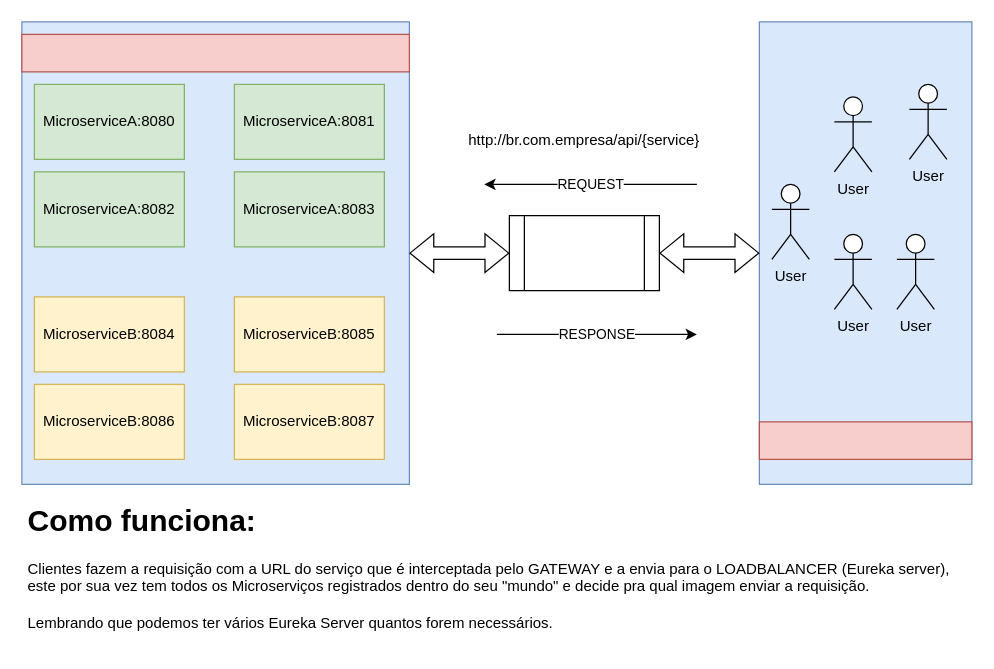
Image size: 994x669. Some labels were removed from this diagram. The centre of each missing label's shape, as x and y in pixels:
"Discovery Server Eureka : porta 8761 : Load Balancer" belongs at pixel 215 52.
"GATEWAY (Spring Cloud Gateway)" belongs at pixel 583 252.
"Milhares de Users Requests" belongs at pixel 865 440.
